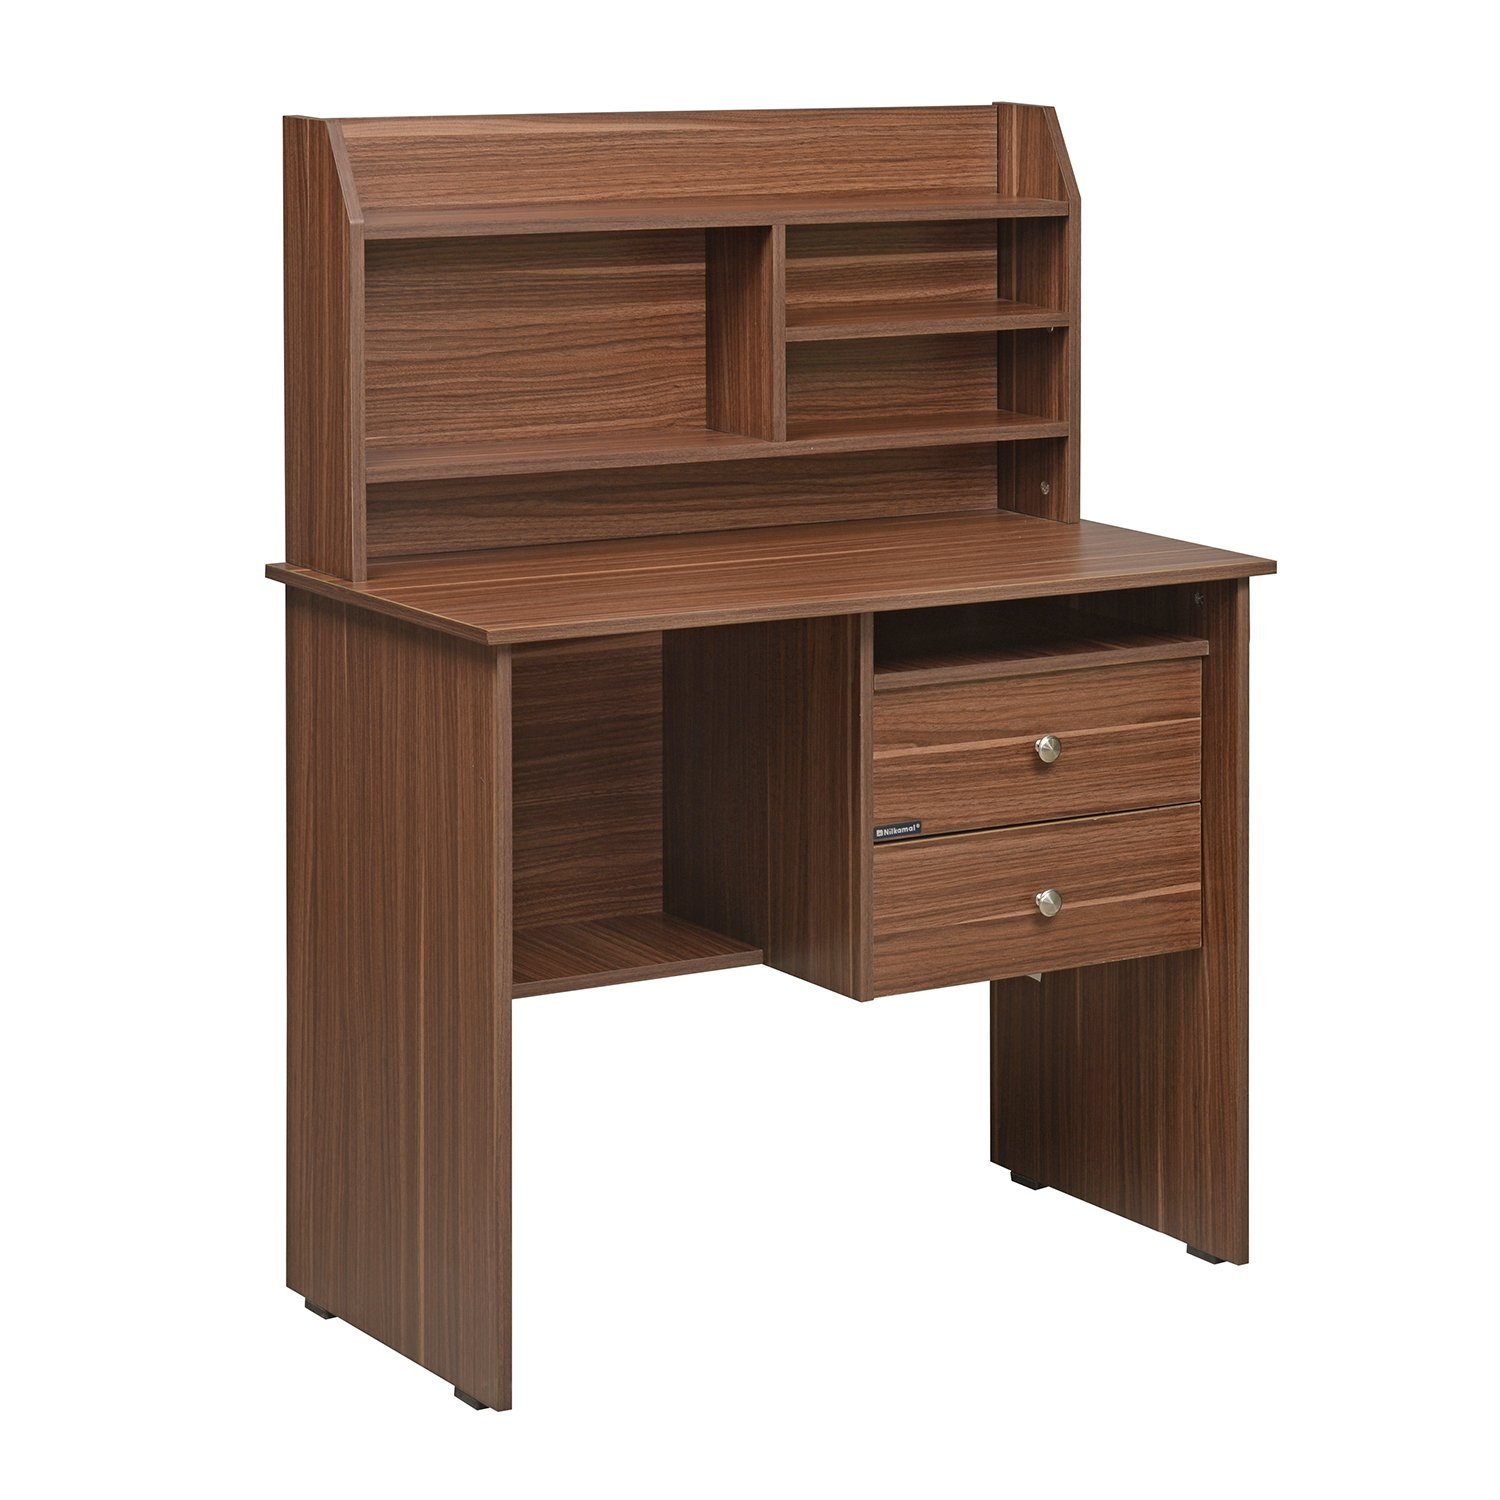meja: (1, 16, 1427, 1391)
